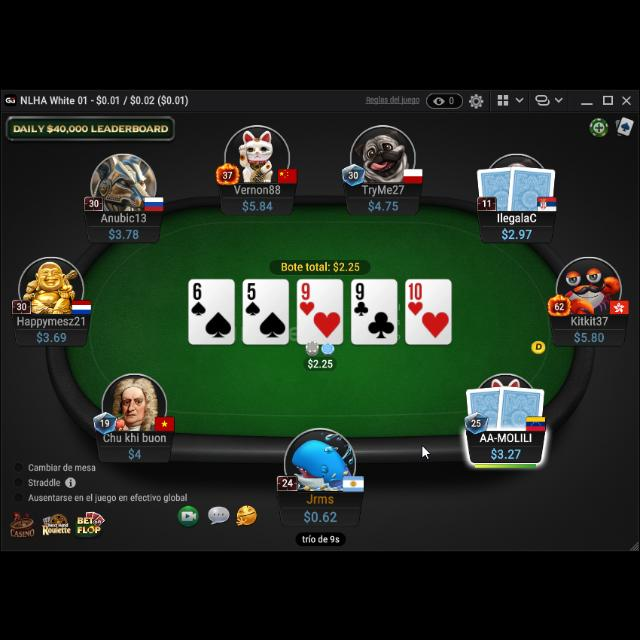5s: (243, 281, 261, 317)
6s: (190, 280, 208, 316)
9c: (354, 280, 368, 316)
9h: (298, 280, 316, 316)
Th: (408, 280, 424, 314)
bet_text: (308, 356, 334, 369)
card_back: (495, 382, 547, 432), (507, 161, 557, 211), (475, 163, 519, 211), (464, 382, 506, 430)
dealer: (529, 338, 549, 354)
pot_text: (280, 258, 362, 270)
stack_text: (302, 506, 338, 524), (106, 226, 140, 242), (573, 328, 607, 344), (501, 226, 534, 242), (490, 446, 522, 460), (242, 198, 274, 212), (36, 329, 68, 343), (368, 198, 400, 212), (128, 446, 142, 460)
